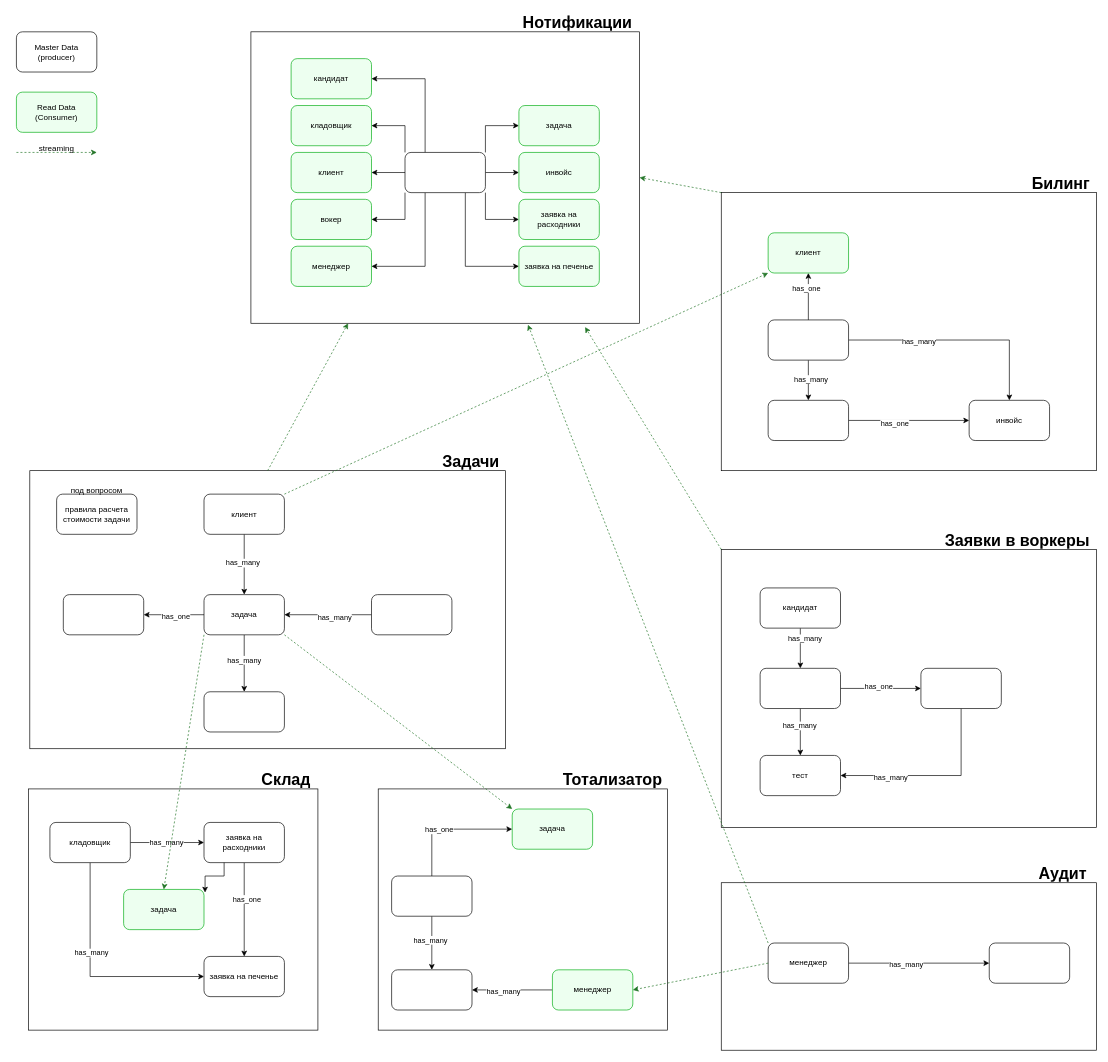
Some shapes in this 1108 by 1062 pixel diagram are drawn without their labels. The centre of each missing label's shape, as x and y in pixels:
"Акаунт кота" goes at (808,339).
"аудит проверки задач (запись)" goes at (1029,962).
"вакансия" goes at (960,688).
"воркер" goes at (411,614).
"заявка в воркеры" goes at (800,688).
"игра" goes at (431,895).
"нотификация" goes at (444,172).
"Проводка (история переводов денег)" goes at (808,420).
"ставка" goes at (431,989).
"услуга" goes at (103,614).
"фото" goes at (243,711).
